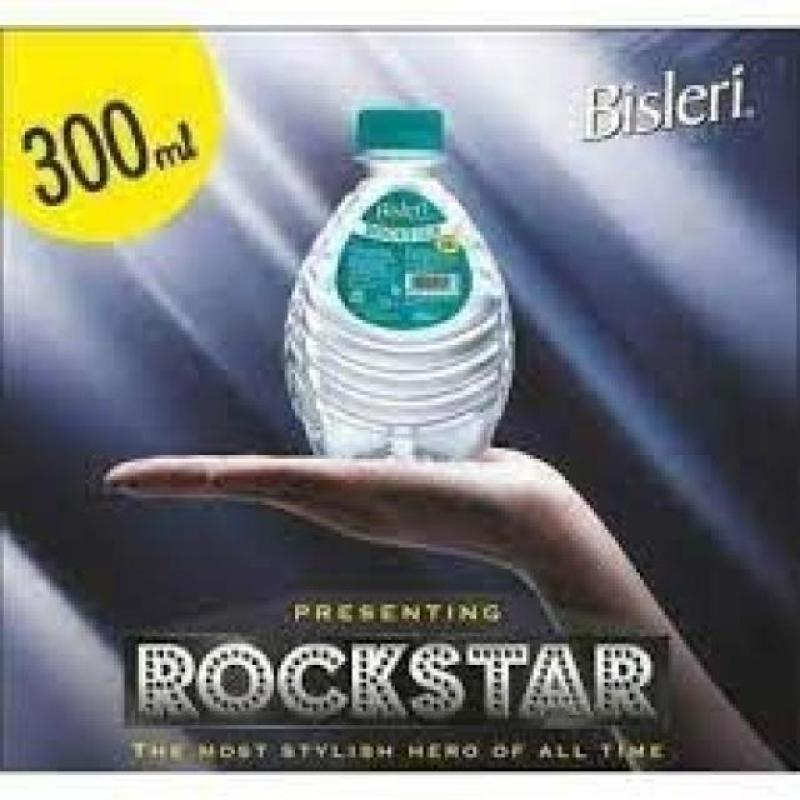botella: (282, 110, 514, 455)
